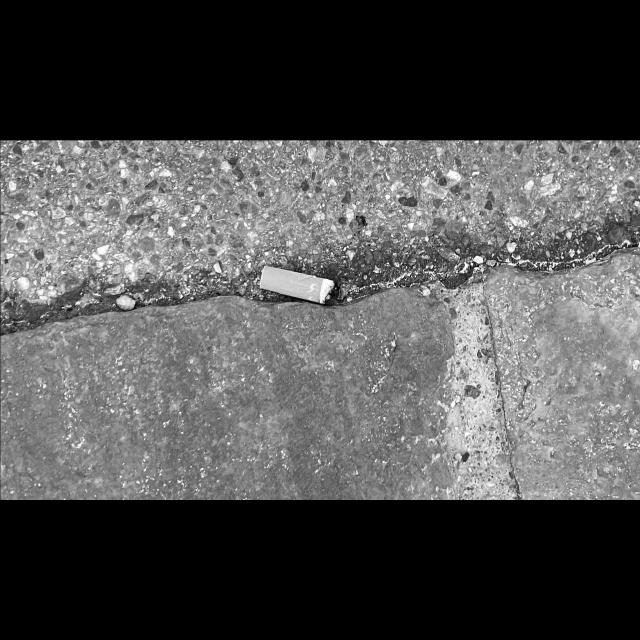cigarette: (259, 264, 337, 305)
